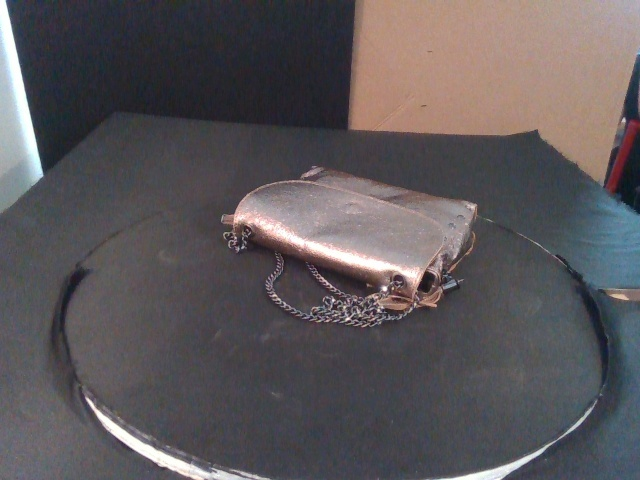bag: (231, 165, 479, 295)
